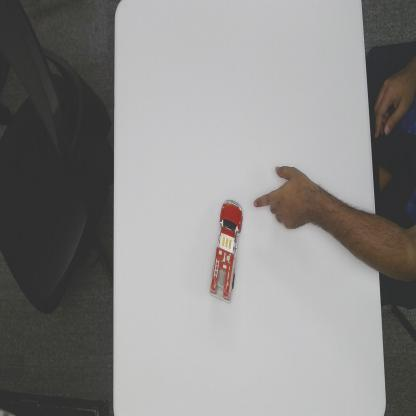Arm: (315, 175, 416, 287)
Firetruck: (207, 196, 244, 306)
Hand: (253, 160, 315, 233)
